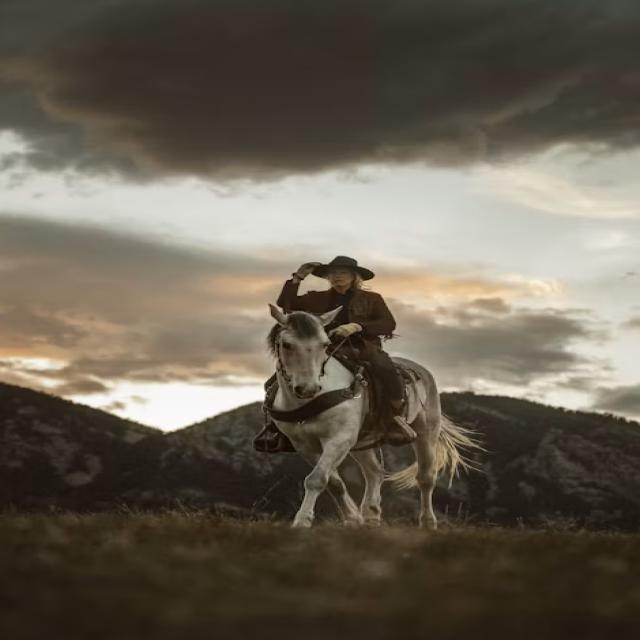Edited images: (252, 224, 444, 462)
